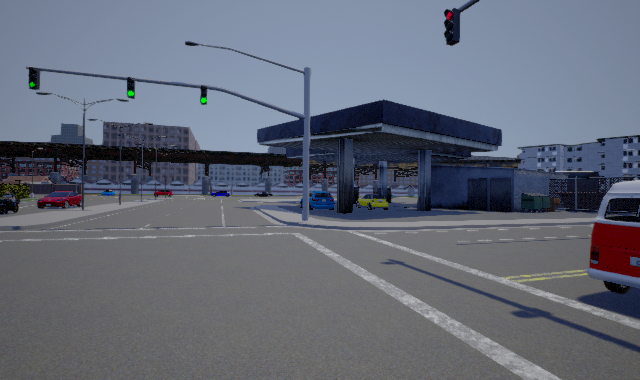traffic_light: (444, 8, 460, 46), (28, 67, 40, 90), (127, 77, 135, 99), (200, 85, 207, 105)
vehicle: (588, 179, 640, 292), (37, 191, 82, 209), (299, 191, 334, 211), (356, 194, 389, 210), (1, 196, 21, 214), (152, 187, 173, 197), (210, 190, 229, 197)
